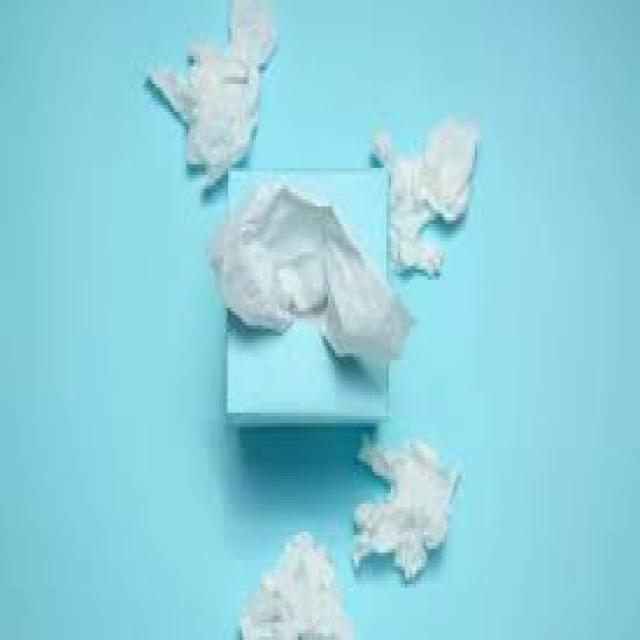tissue: (214, 184, 409, 362), (149, 2, 276, 189), (354, 445, 459, 581), (391, 118, 480, 275), (241, 532, 350, 639)
